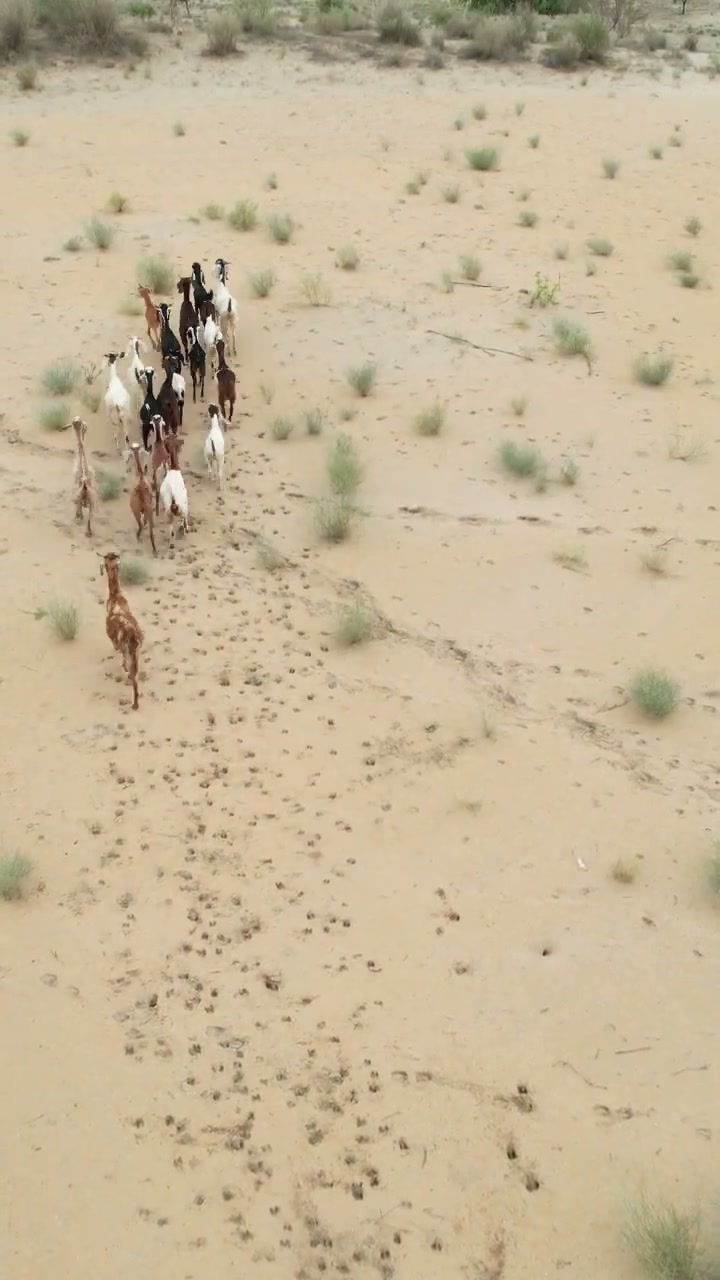animal_foot_print: (85, 462, 430, 1274)
